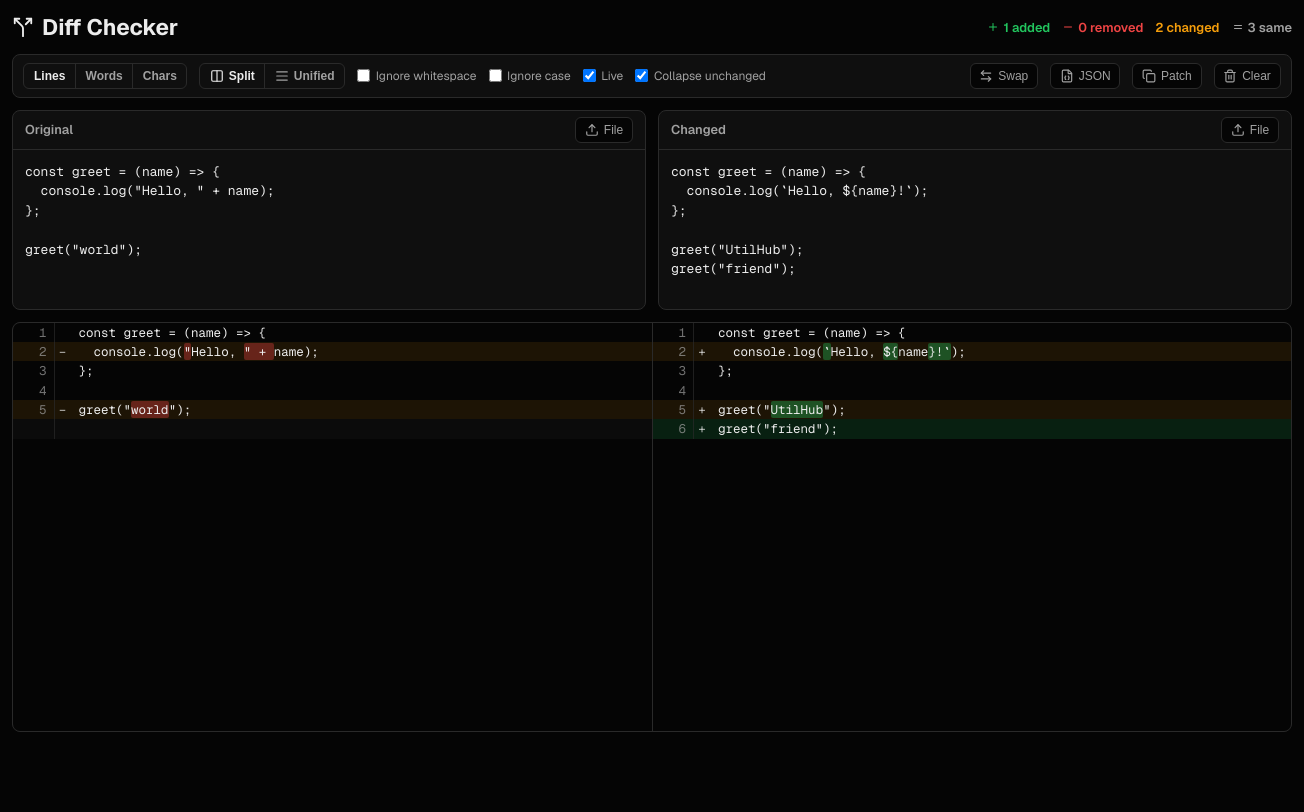
Test case: DiffTool › switches to unified view
Click the button "Unified" at (304, 76), box [264,64,344,88]
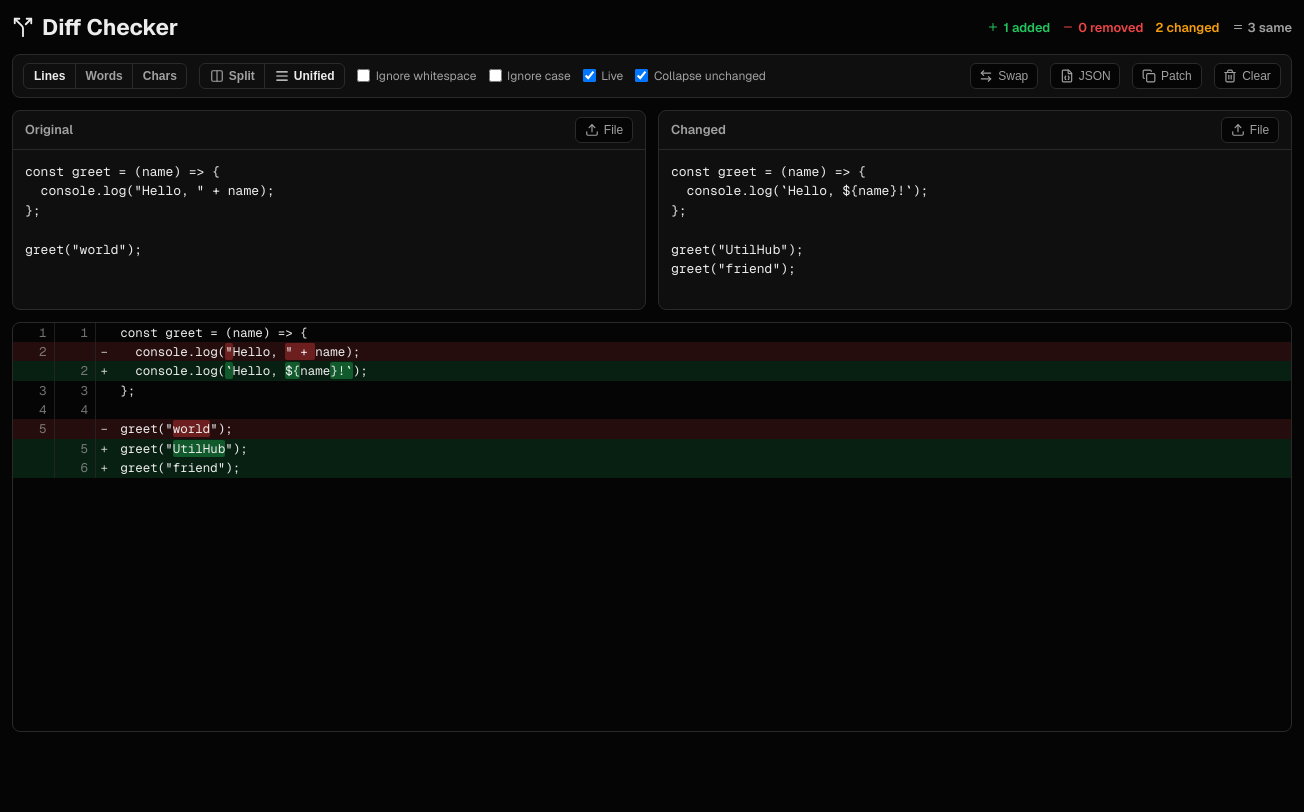
Check: the element named "Unified diff" is shown, box [12,322,1292,732]
